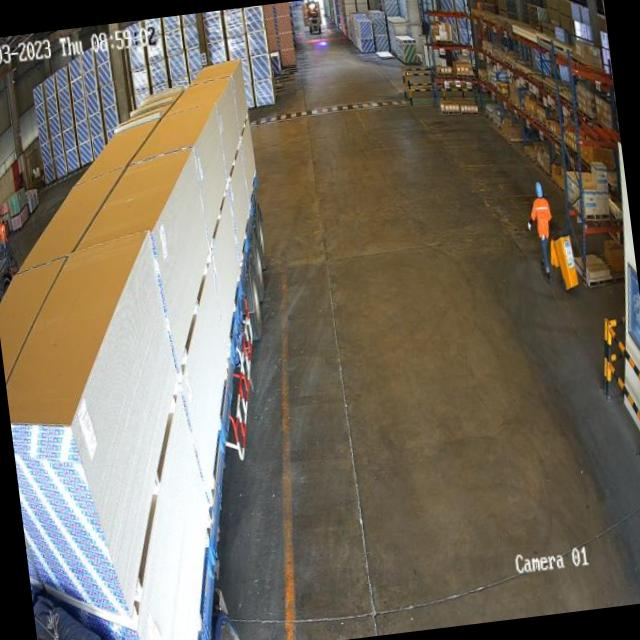person: (521, 176, 562, 286), (0, 214, 7, 245)
